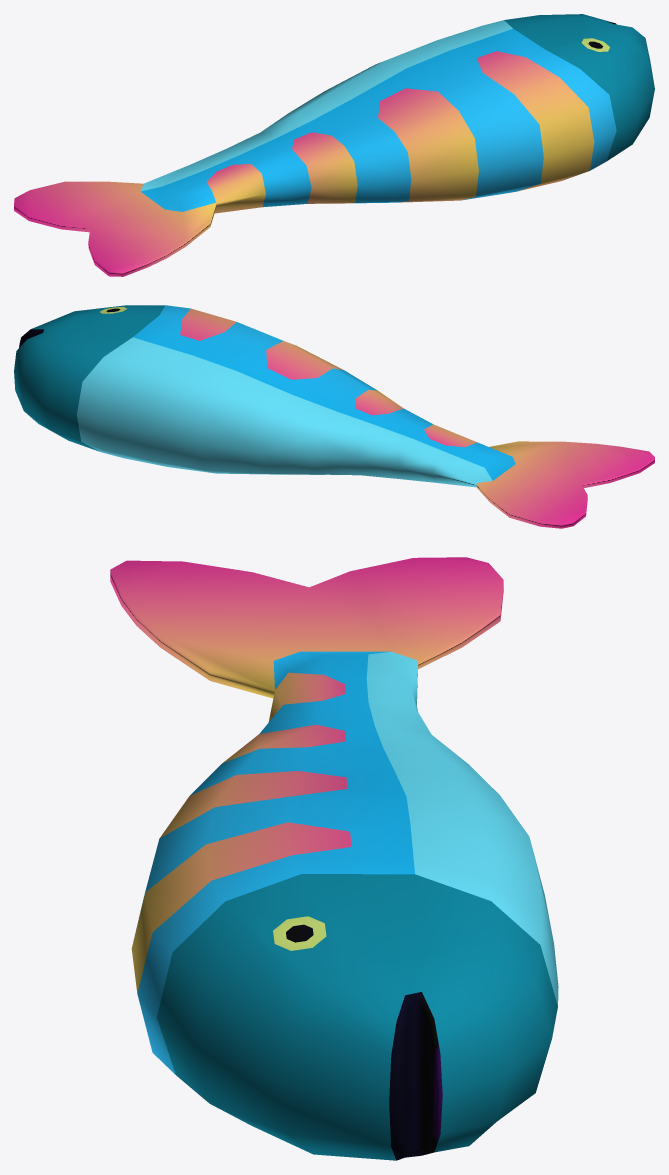
Rendered from Product Fish.fbx.
3 renders of one model, top to bottom at view 1: azimuth 30°, elevation 25°; view 2: azimuth 150°, elevation 25°; view 3: azimuth 270°, elevation 25°, orthographic. The views are drawn at different scales.
Parts seen in each view (by area): view 1: Product_Fish; view 2: Product_Fish; view 3: Product_Fish.
Boxes of the visible parts, x1=… form: Product_Fish: x1=14, y1=14, x2=654, y2=276; Product_Fish: x1=14, y1=305, x2=654, y2=528; Product_Fish: x1=110, y1=557, x2=558, y2=1160.
Bounding box in the file's own units: 247 × 46.43 × 83.16.
